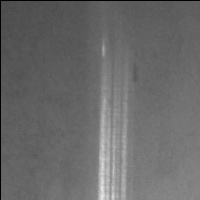scratches: (98, 44, 131, 200)
